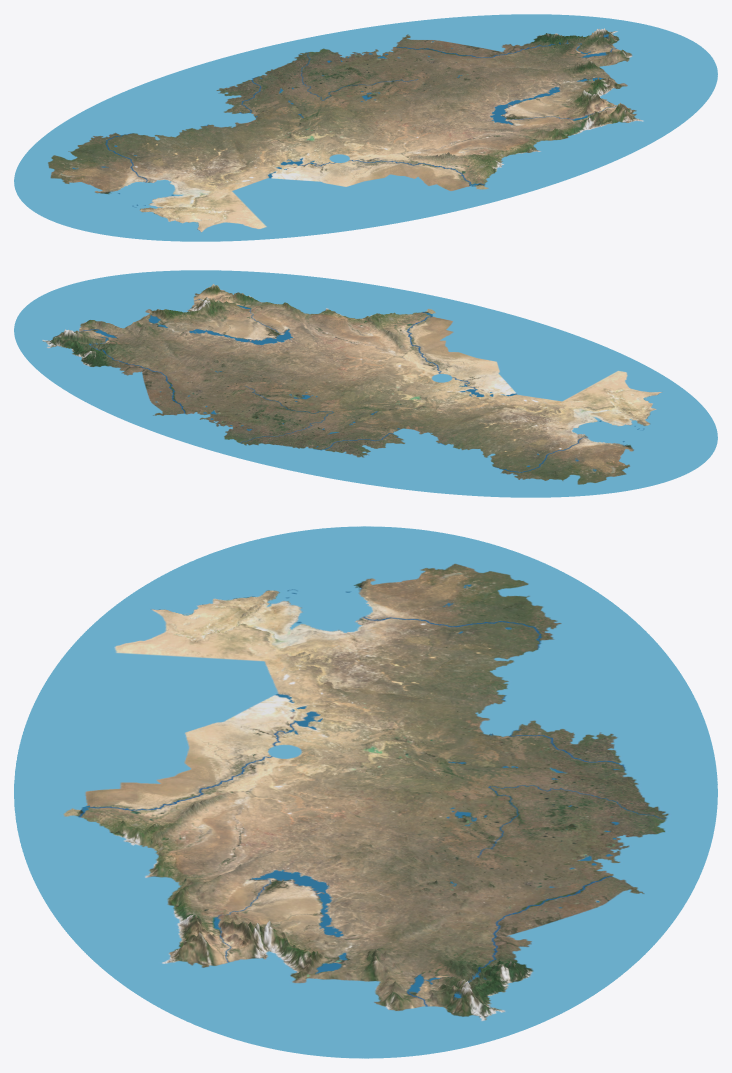
File: KAZ-previa-terrain.glb
3 renders of one model, top to bottom at view 1: azimuth 30°, elevation 25°; view 2: azimuth 150°, elevation 25°; view 3: azimuth 270°, elevation 25°, orthographic. The views are drawn at different scales.
Visible parts, largest first — view 1: Cazaquistão; view 2: Cazaquistão; view 3: Cazaquistão.
Boxes of the visible parts, x1,y1,x2,y2 form: Cazaquistão: [14, 14, 717, 241]; Cazaquistão: [14, 270, 717, 497]; Cazaquistão: [14, 526, 717, 1058].
Size of the model in its own units: 1.99 by 0.0399 by 1.11.
1 material, 1 textured.
